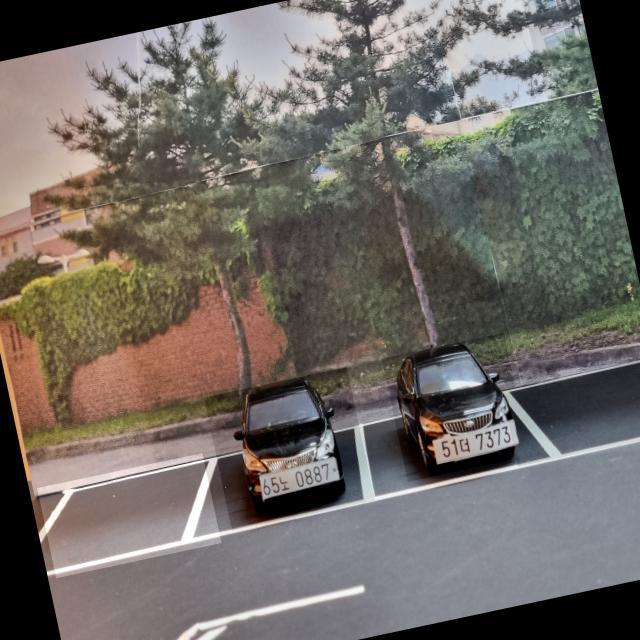empty: (37, 452, 221, 578), (501, 356, 640, 466)
occupied: (203, 367, 374, 530), (382, 332, 530, 481)
